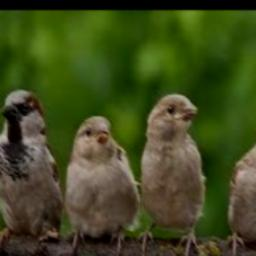Sparrow: (137, 94, 205, 256), (0, 88, 63, 250), (65, 115, 140, 249), (226, 117, 256, 256)
